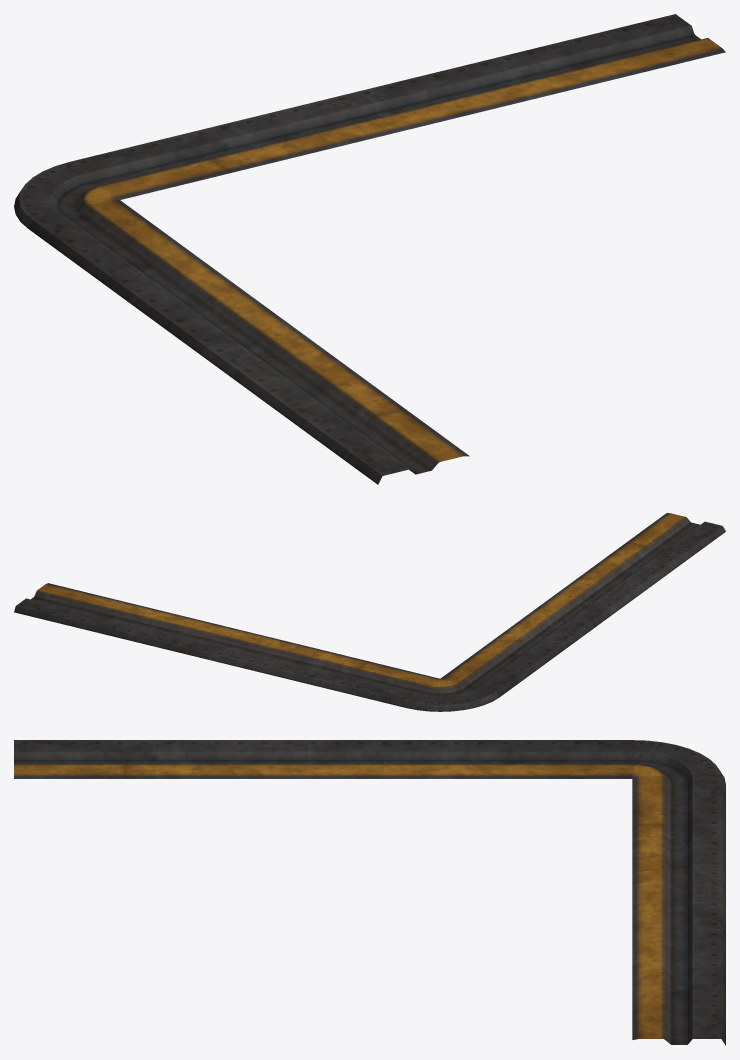
The model's file is lab_floor_welder_convex_short.dae.
The picture shows the model from 3 angles, top to bottom: view 1: azimuth 30°, elevation 25°; view 2: azimuth 150°, elevation 25°; view 3: azimuth 270°, elevation 25°; orthographic projection. The views are drawn at different scales.
Visible parts, largest first — view 1: floor_welder_convex_short; view 2: floor_welder_convex_short; view 3: floor_welder_convex_short.
Boxes of the visible parts, x1,y1,x2,y2 form: floor_welder_convex_short: (14, 14, 725, 484); floor_welder_convex_short: (14, 513, 725, 711); floor_welder_convex_short: (14, 740, 725, 1045).
Size of the model in its own units: 2.38 by 0.0254 by 2.38.
